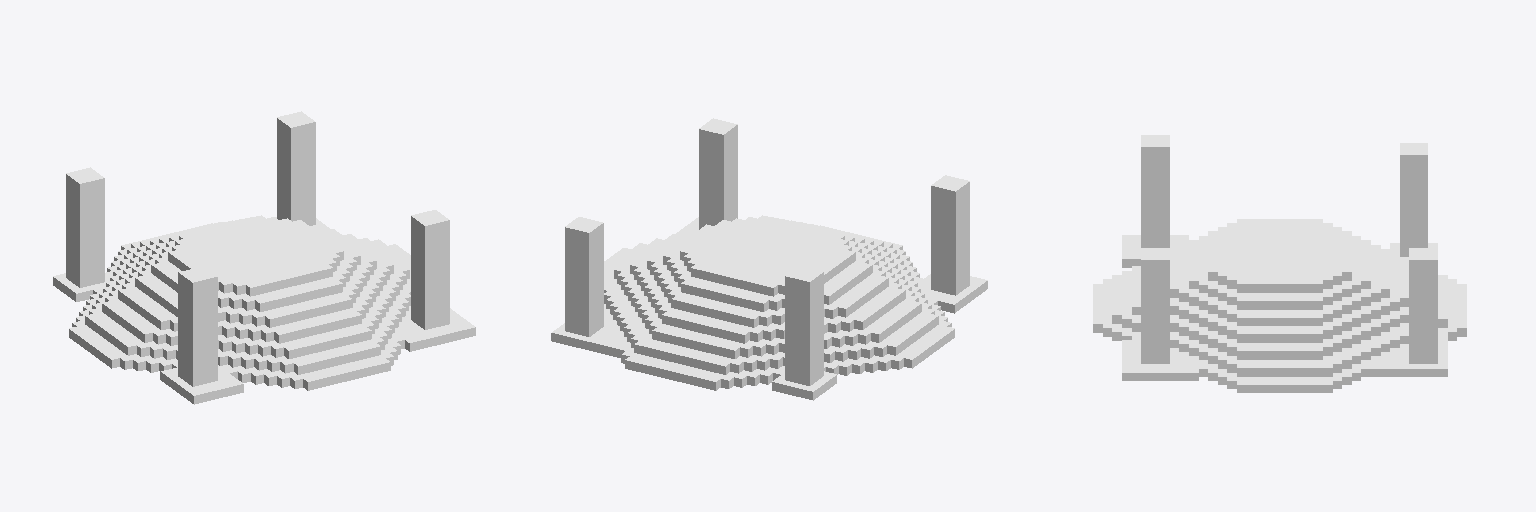
The model's file is home.obj.
The picture shows the model from 3 angles: view 1: azimuth 30°, elevation 25°; view 2: azimuth 150°, elevation 25°; view 3: azimuth 270°, elevation 25°; orthographic projection.
Bounding box in the file's own units: 40 × 13 × 39.